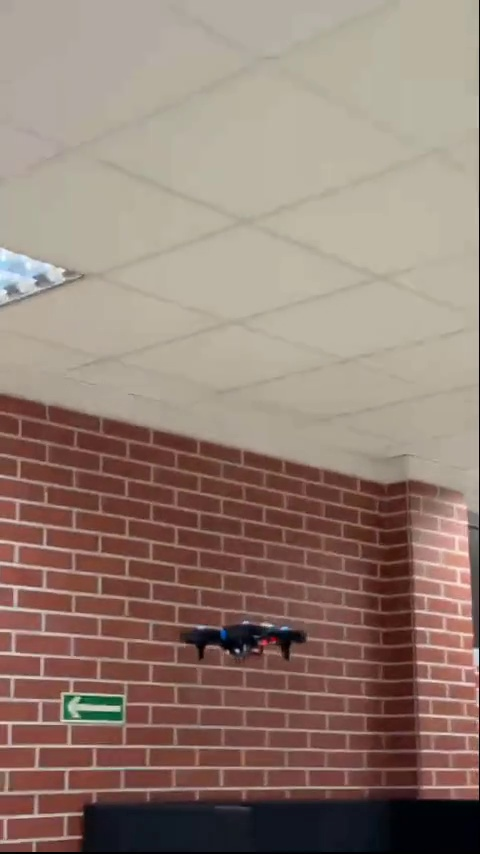drone: (180, 621, 308, 660)
